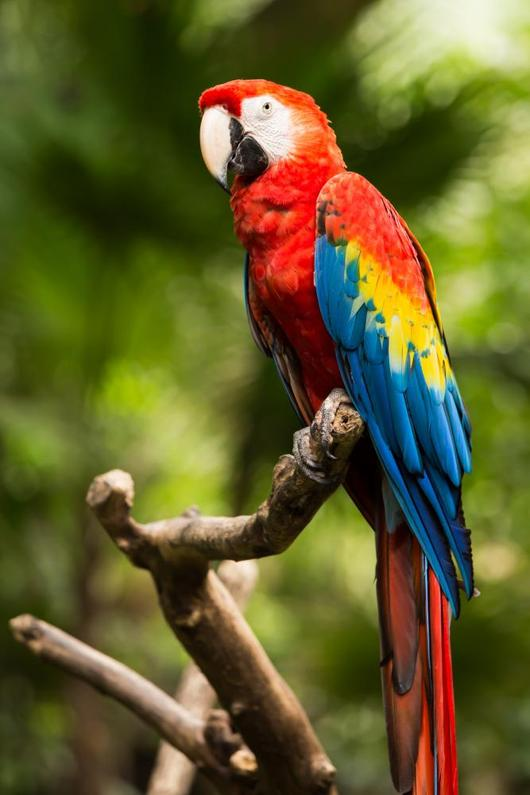Animal: (193, 74, 475, 795)
